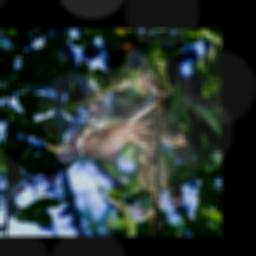Cuckoo: (47, 84, 178, 163)
